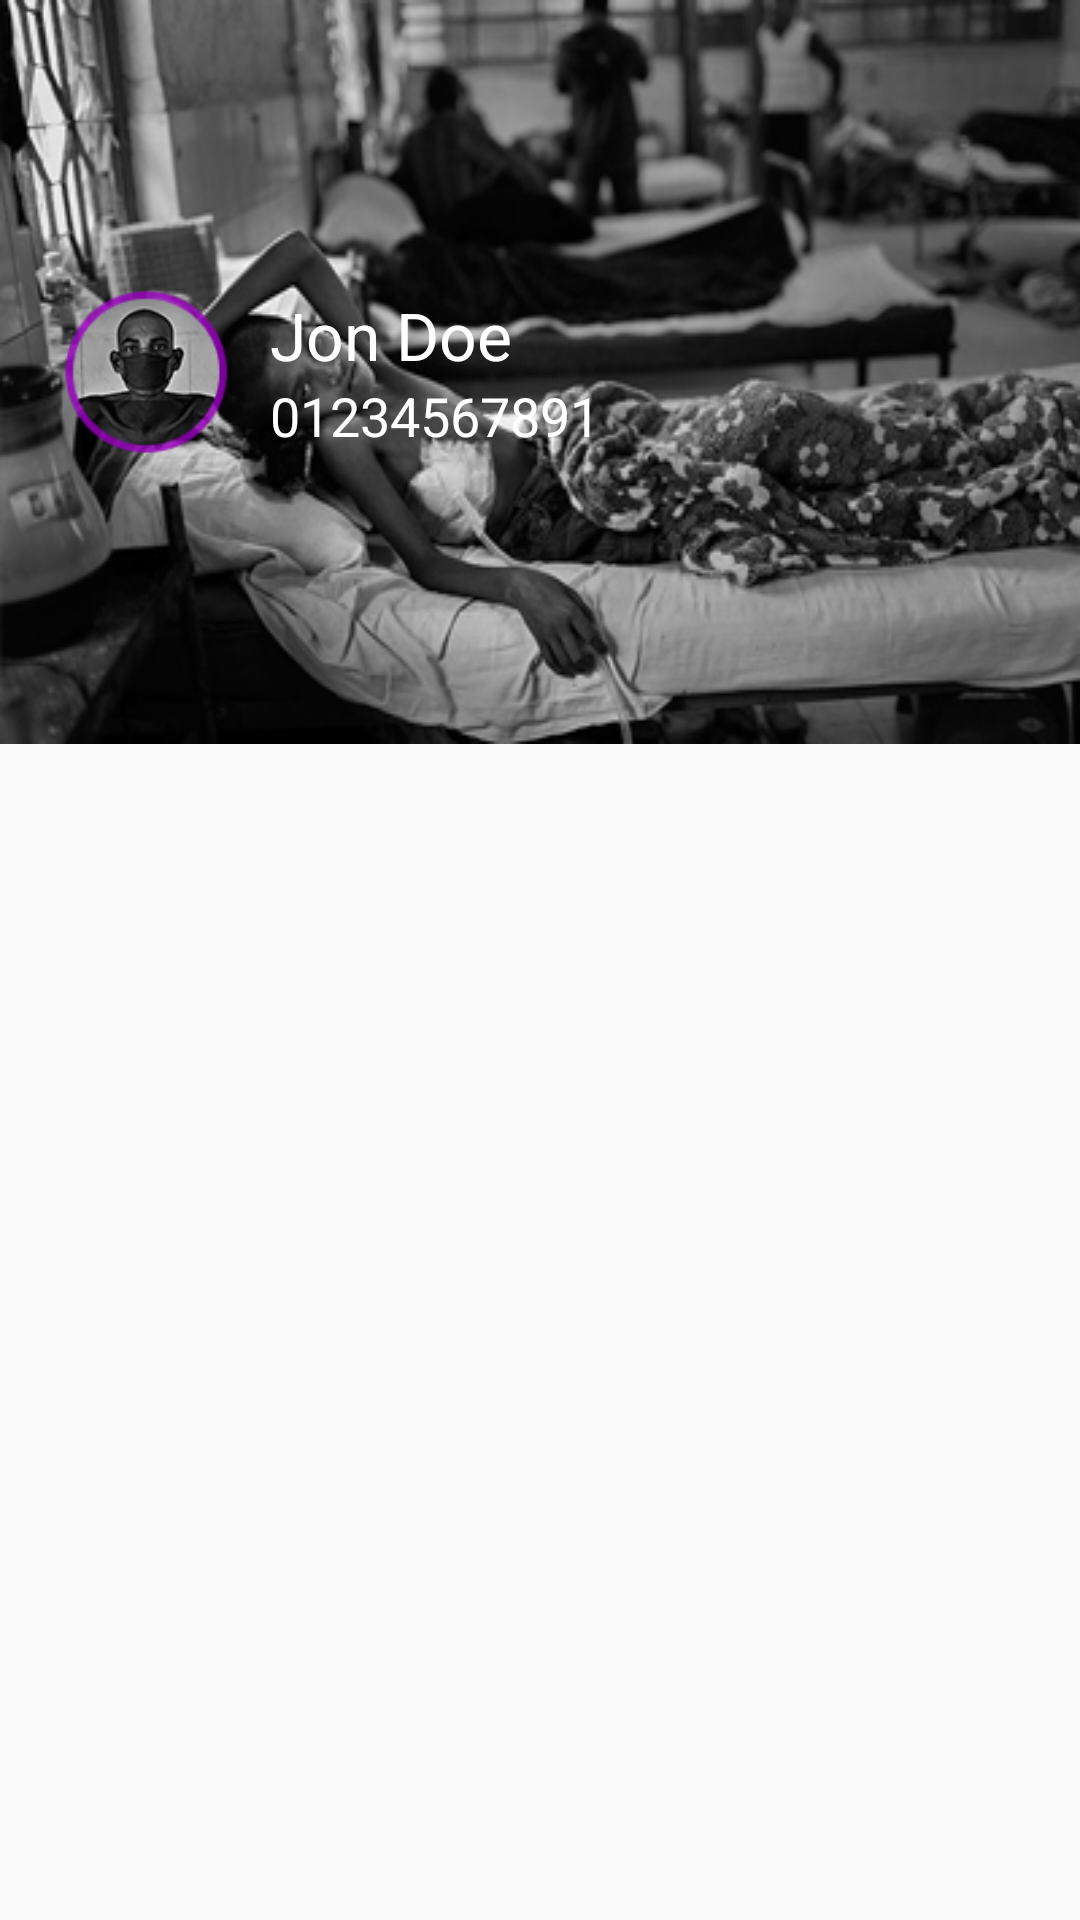

Icon click points for this 1080 × 1920 phone screenshot, format [x,y]:
pro: [150,372]
